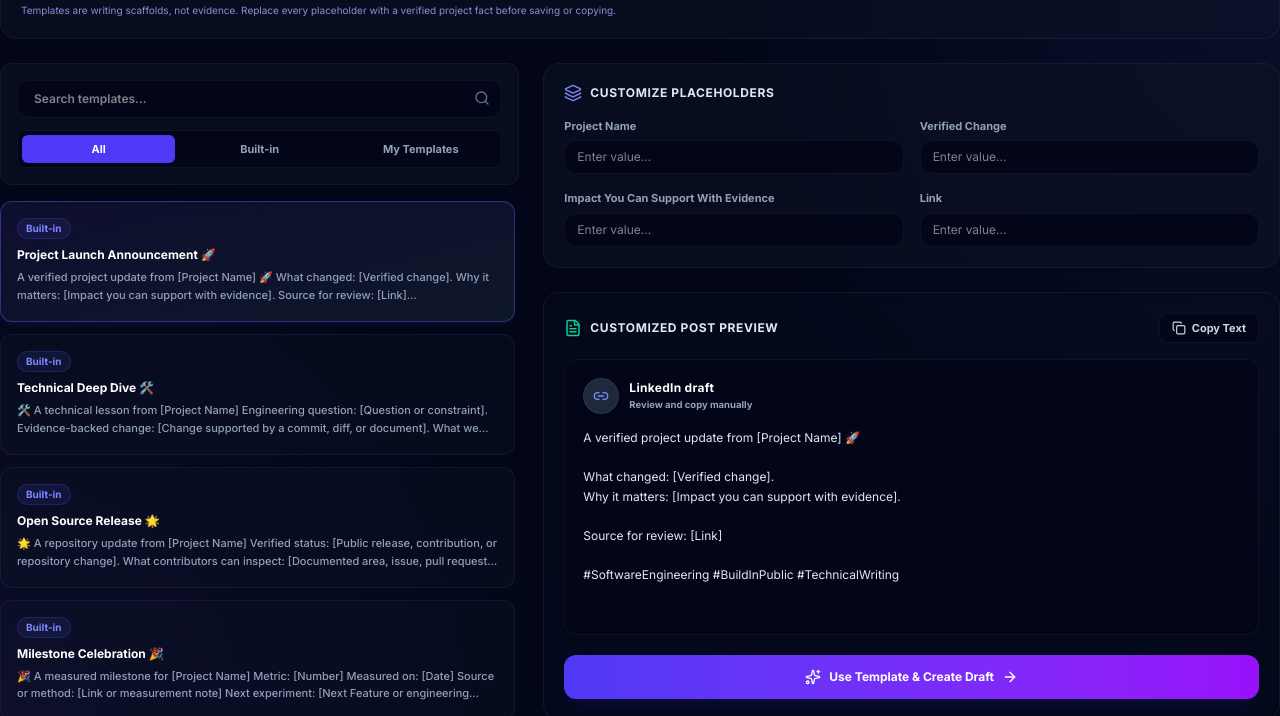
Test: TemplatesPanel page contract › shows a recoverable inline error when creating a draft from a template fails
(page scrolled)
Click the button "Use Template & Create Draft". click: (912, 677)
box: [564,655,1259,699]
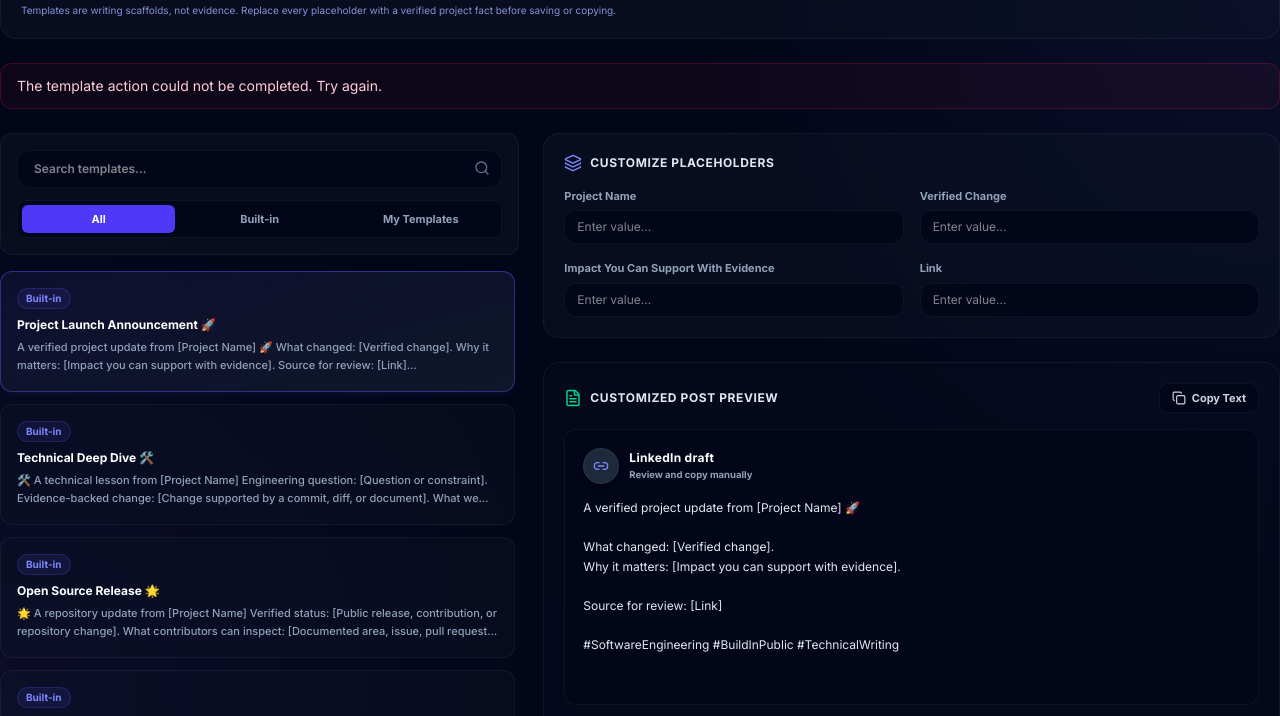
Expected: the message reads "The template action could not be completed. Try again.", [17,77,382,94]
